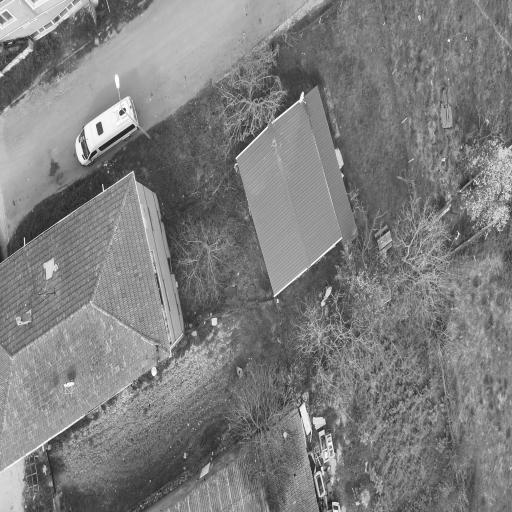car: (75, 96, 139, 165)
